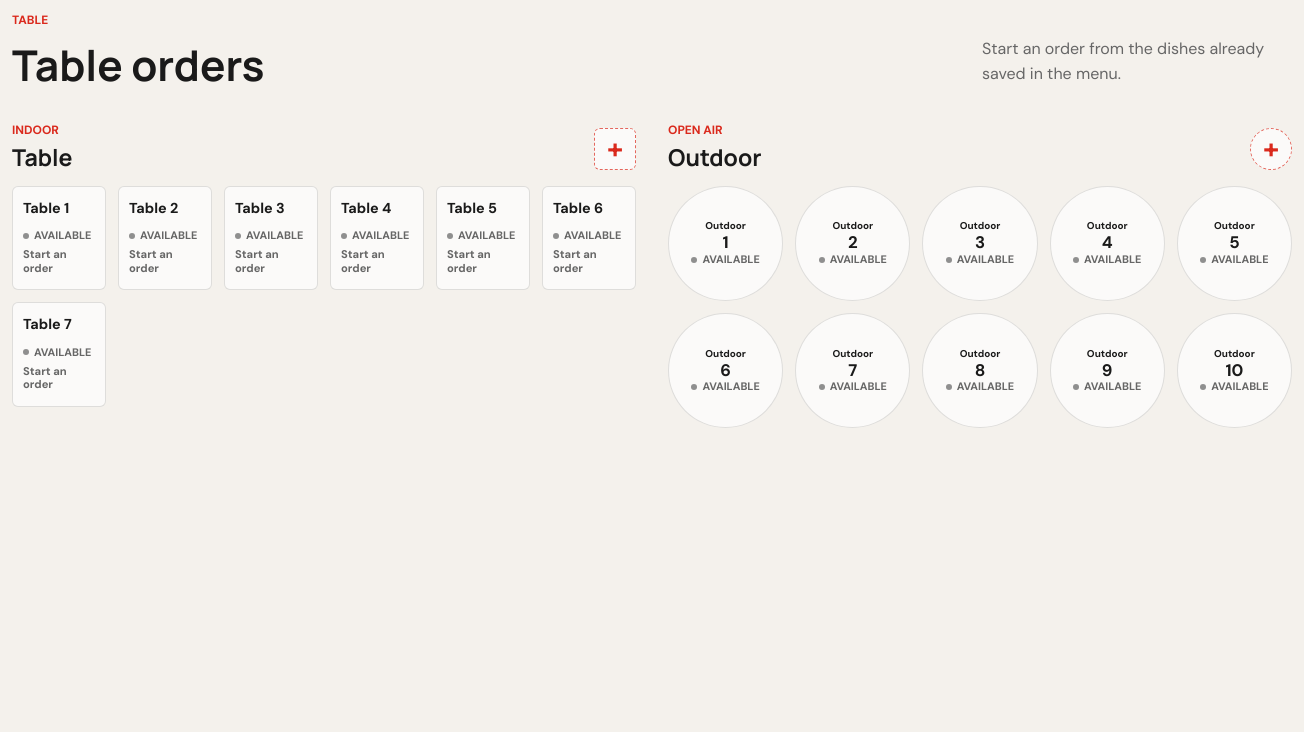
TableManager › keeps the menu available when current open orders cannot be restored
The width and height of the screenshot is (1304, 732).
Step 1. Click the button "Table 1 Available Start an order" → x=59, y=238, box 12,186 -> 106,290
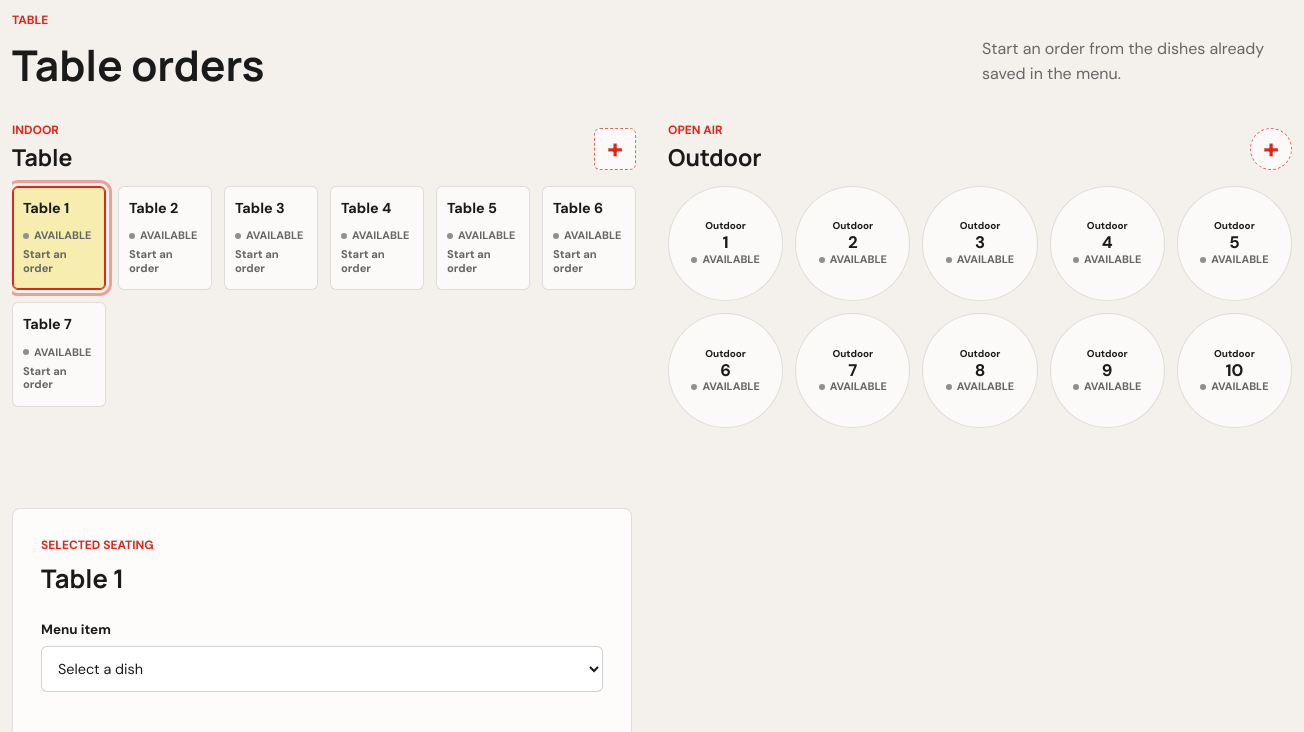
Check: the dropdown labelled "Menu item" is shown, box 41,646 -> 603,692
